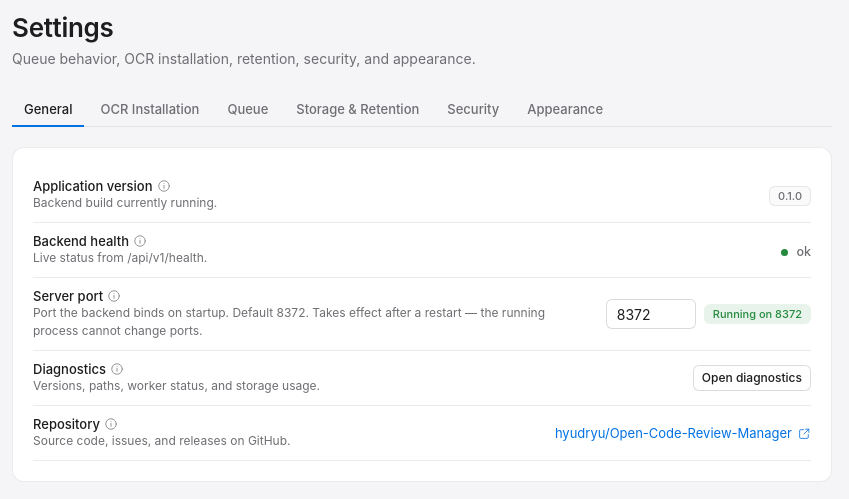
Test: SettingsPage — server port › rejects an out-of-range port without saving
Replace the text in the number field named "Server port" with "99999" at {"x": 651, "y": 314}, box x1=606 y1=299 x2=696 y2=329
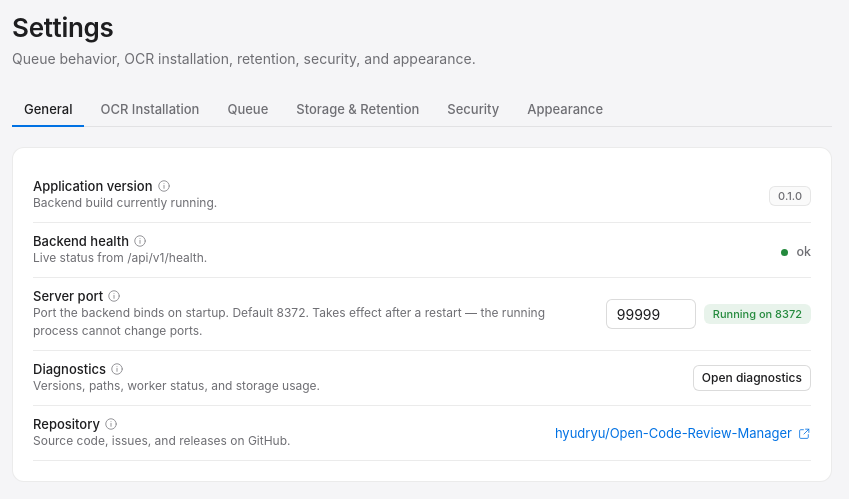
Leave the number field named "Server port", box x1=606 y1=299 x2=696 y2=329
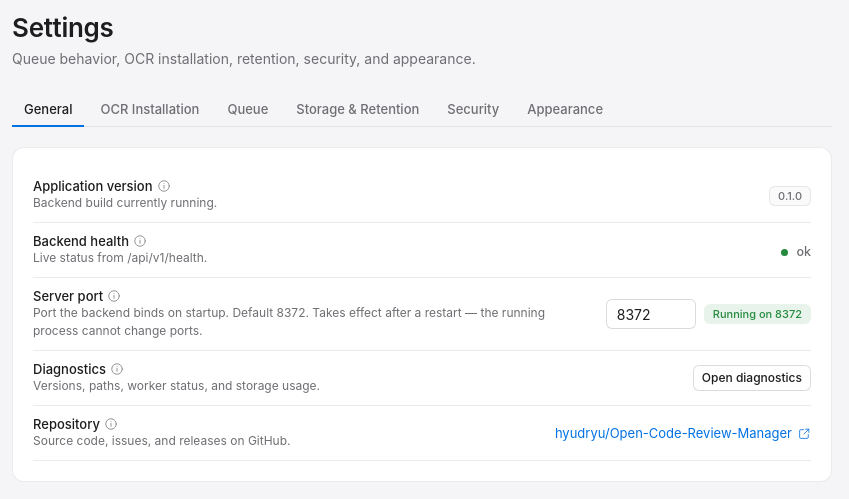
expect the number field named "Server port" holds "8372": met, box x1=606 y1=299 x2=696 y2=329
